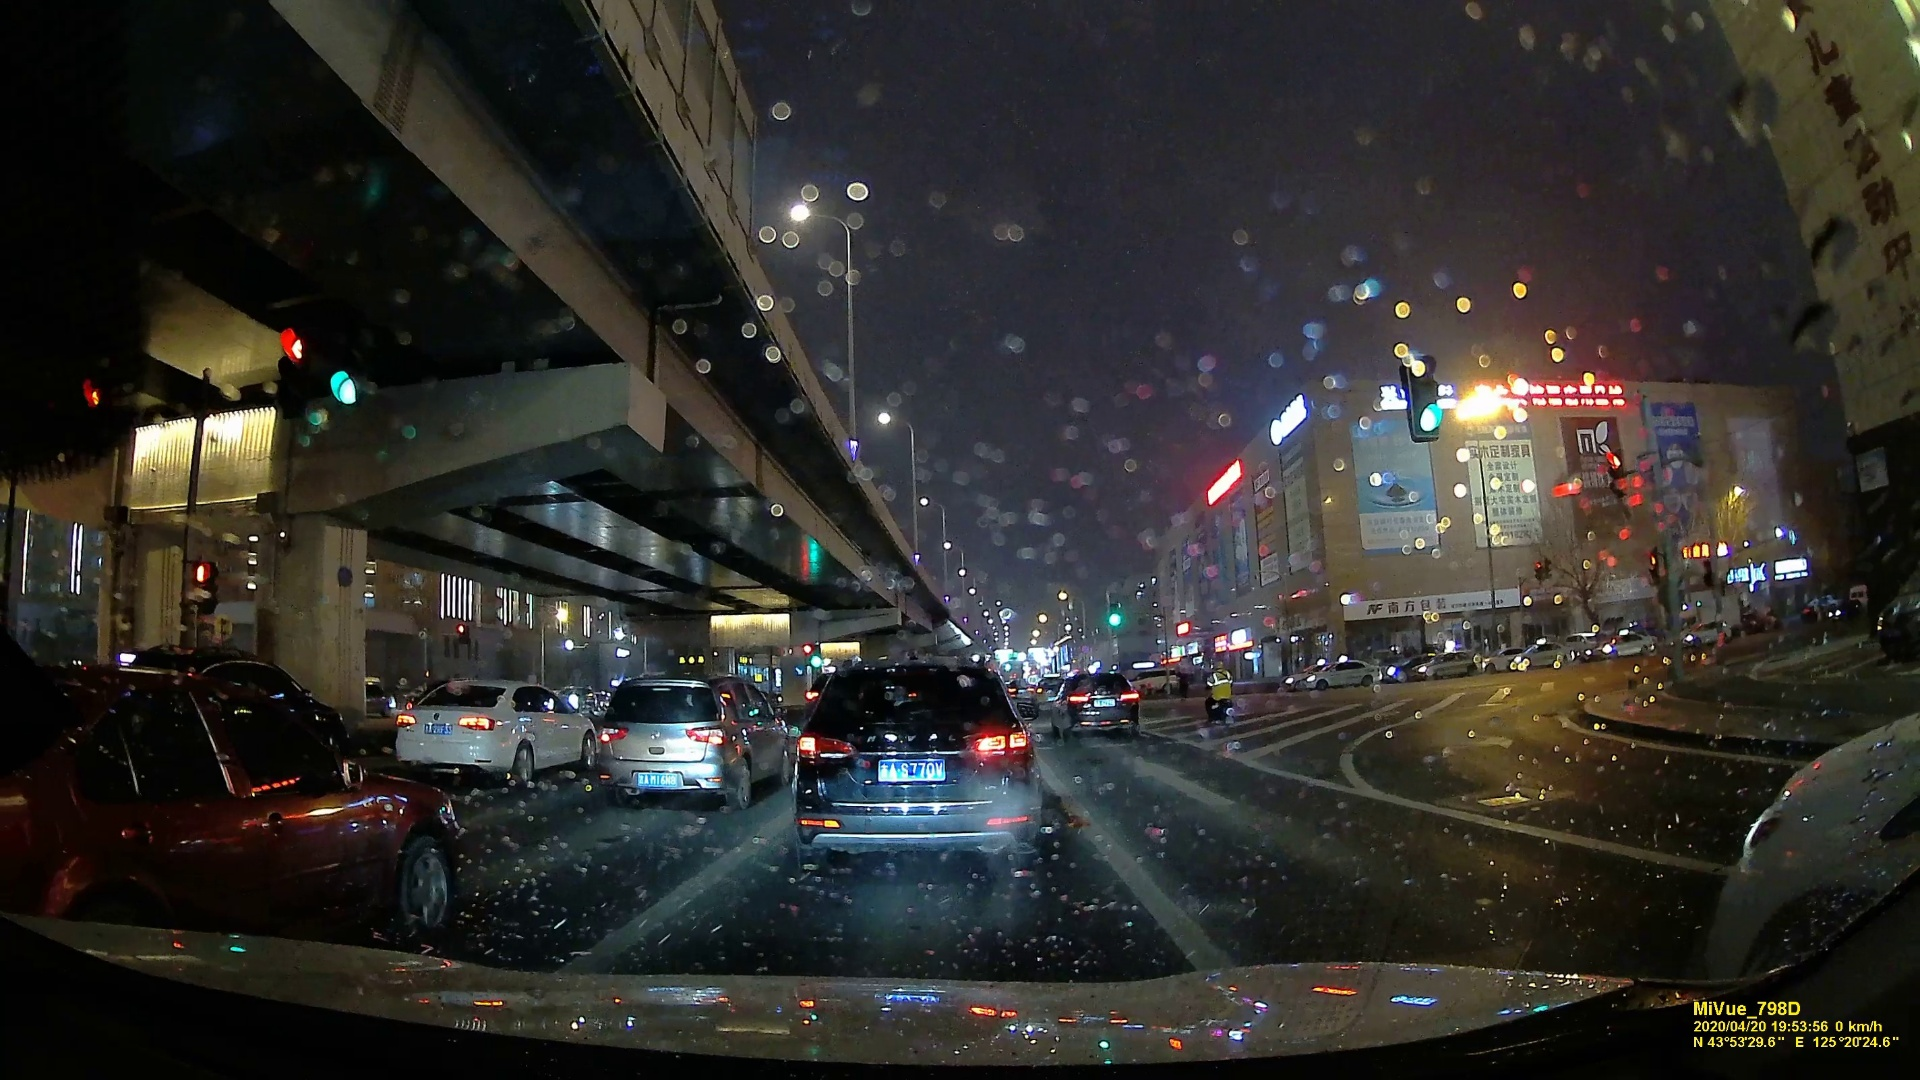person: (1206, 659, 1236, 700)
traffic_sign: (1397, 345, 1448, 442), (325, 320, 374, 411), (275, 323, 317, 419), (190, 560, 222, 611), (1604, 450, 1626, 497), (1109, 601, 1123, 625), (1533, 558, 1545, 583)
vehicle: (5, 646, 446, 959), (790, 657, 1034, 869), (587, 668, 782, 818), (397, 672, 596, 783), (1053, 670, 1141, 741), (1304, 659, 1380, 690)
